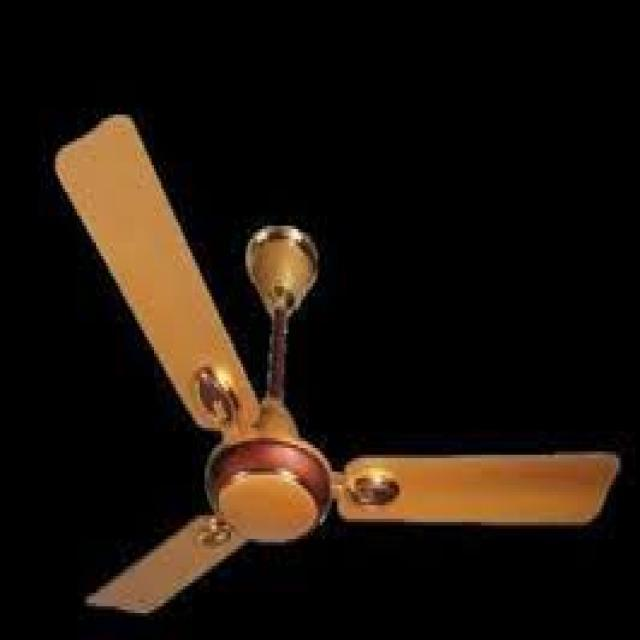fan_off: (55, 113, 614, 606)
